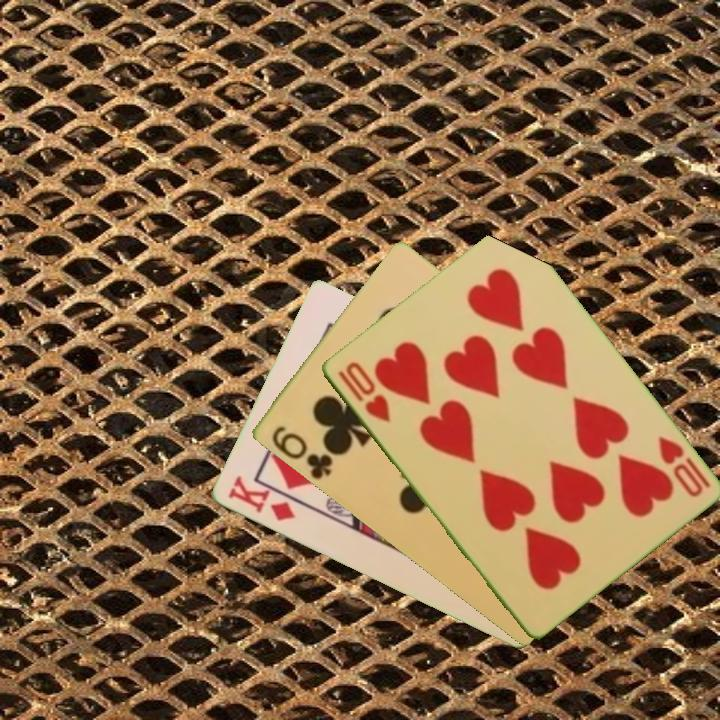10h: (653, 432, 713, 501), (333, 358, 393, 426)
6c: (267, 422, 335, 483)
Kd: (223, 472, 298, 525)
